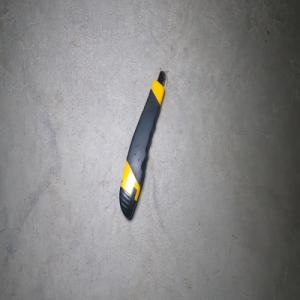Cutter: (118, 69, 166, 219)
